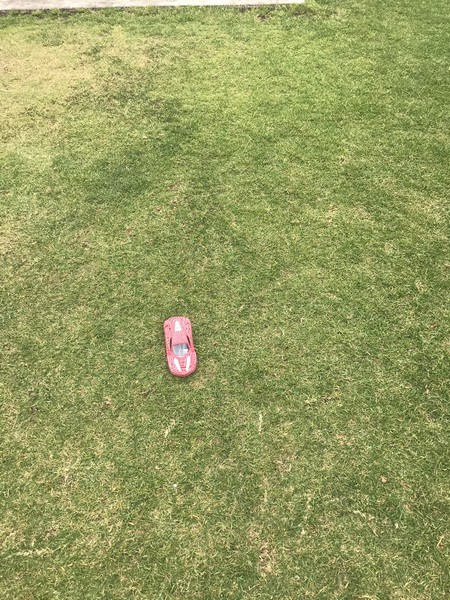RC: (160, 315, 200, 377)
